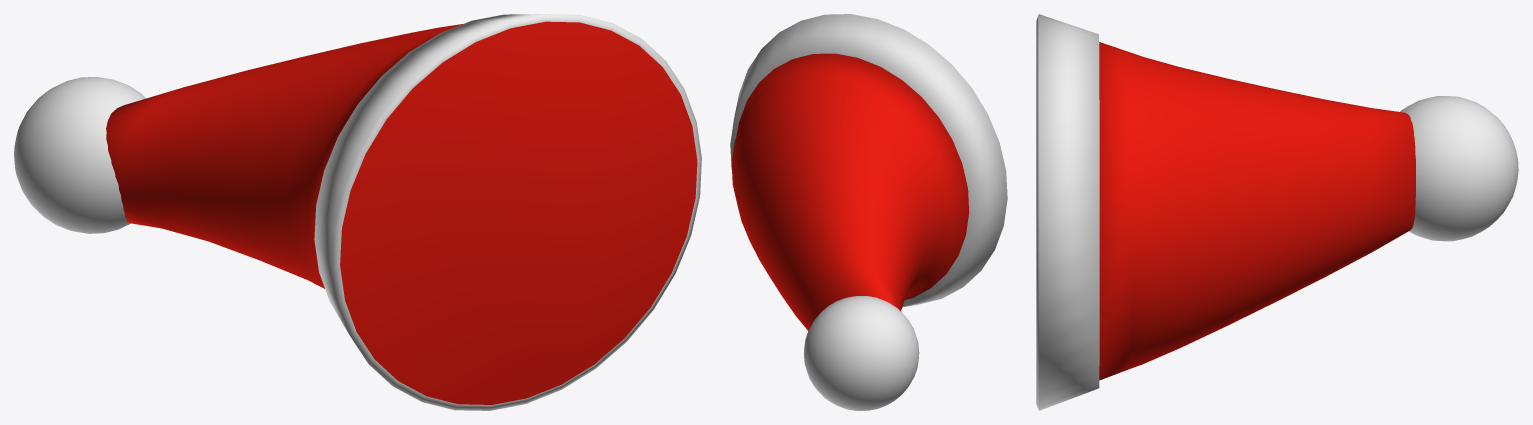
Rendered from SantaHat.fbx.
The picture shows the model from 3 angles, left to right: view 1: azimuth 30°, elevation 25°; view 2: azimuth 150°, elevation 25°; view 3: azimuth 270°, elevation 25°; orthographic projection. The views are drawn at different scales.
Parts seen in each view (by area): view 1: Cylinder.001; view 2: Cylinder.001; view 3: Cylinder.001.
Part boxes in pixels (x1,y1,x2,y2): Cylinder.001: (14,14,701,410); Cylinder.001: (730,14,1007,410); Cylinder.001: (1036,14,1518,410).
Bounding box in the file's own units: 74.63 × 60.21 × 73.2.
